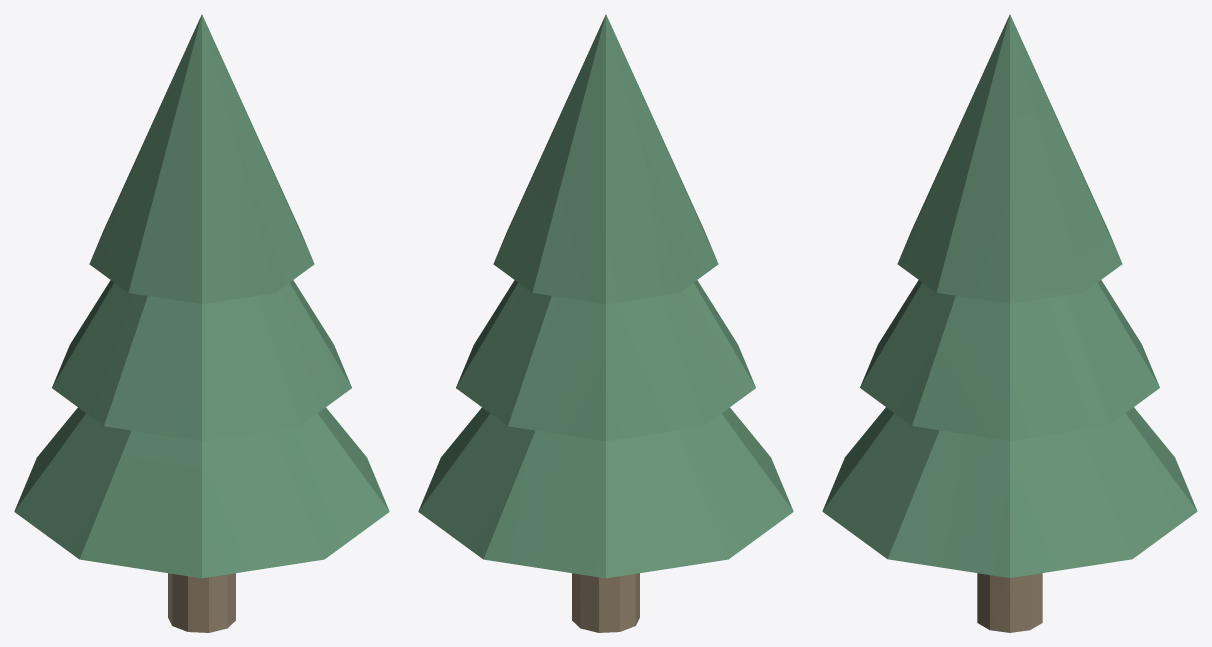
File: pine-03.glb
3 renders of one model, left to right at view 1: azimuth 30°, elevation 25°; view 2: azimuth 150°, elevation 25°; view 3: azimuth 270°, elevation 25°, orthographic.
Visible parts, largest first — view 1: world; view 2: world; view 3: world.
Part boxes in pixels (bbox=[...]): world: bbox=[14, 14, 389, 632]; world: bbox=[418, 14, 793, 632]; world: bbox=[822, 14, 1197, 632].
Size of the model in its own units: 0.9698 by 1.75 by 0.9848.
